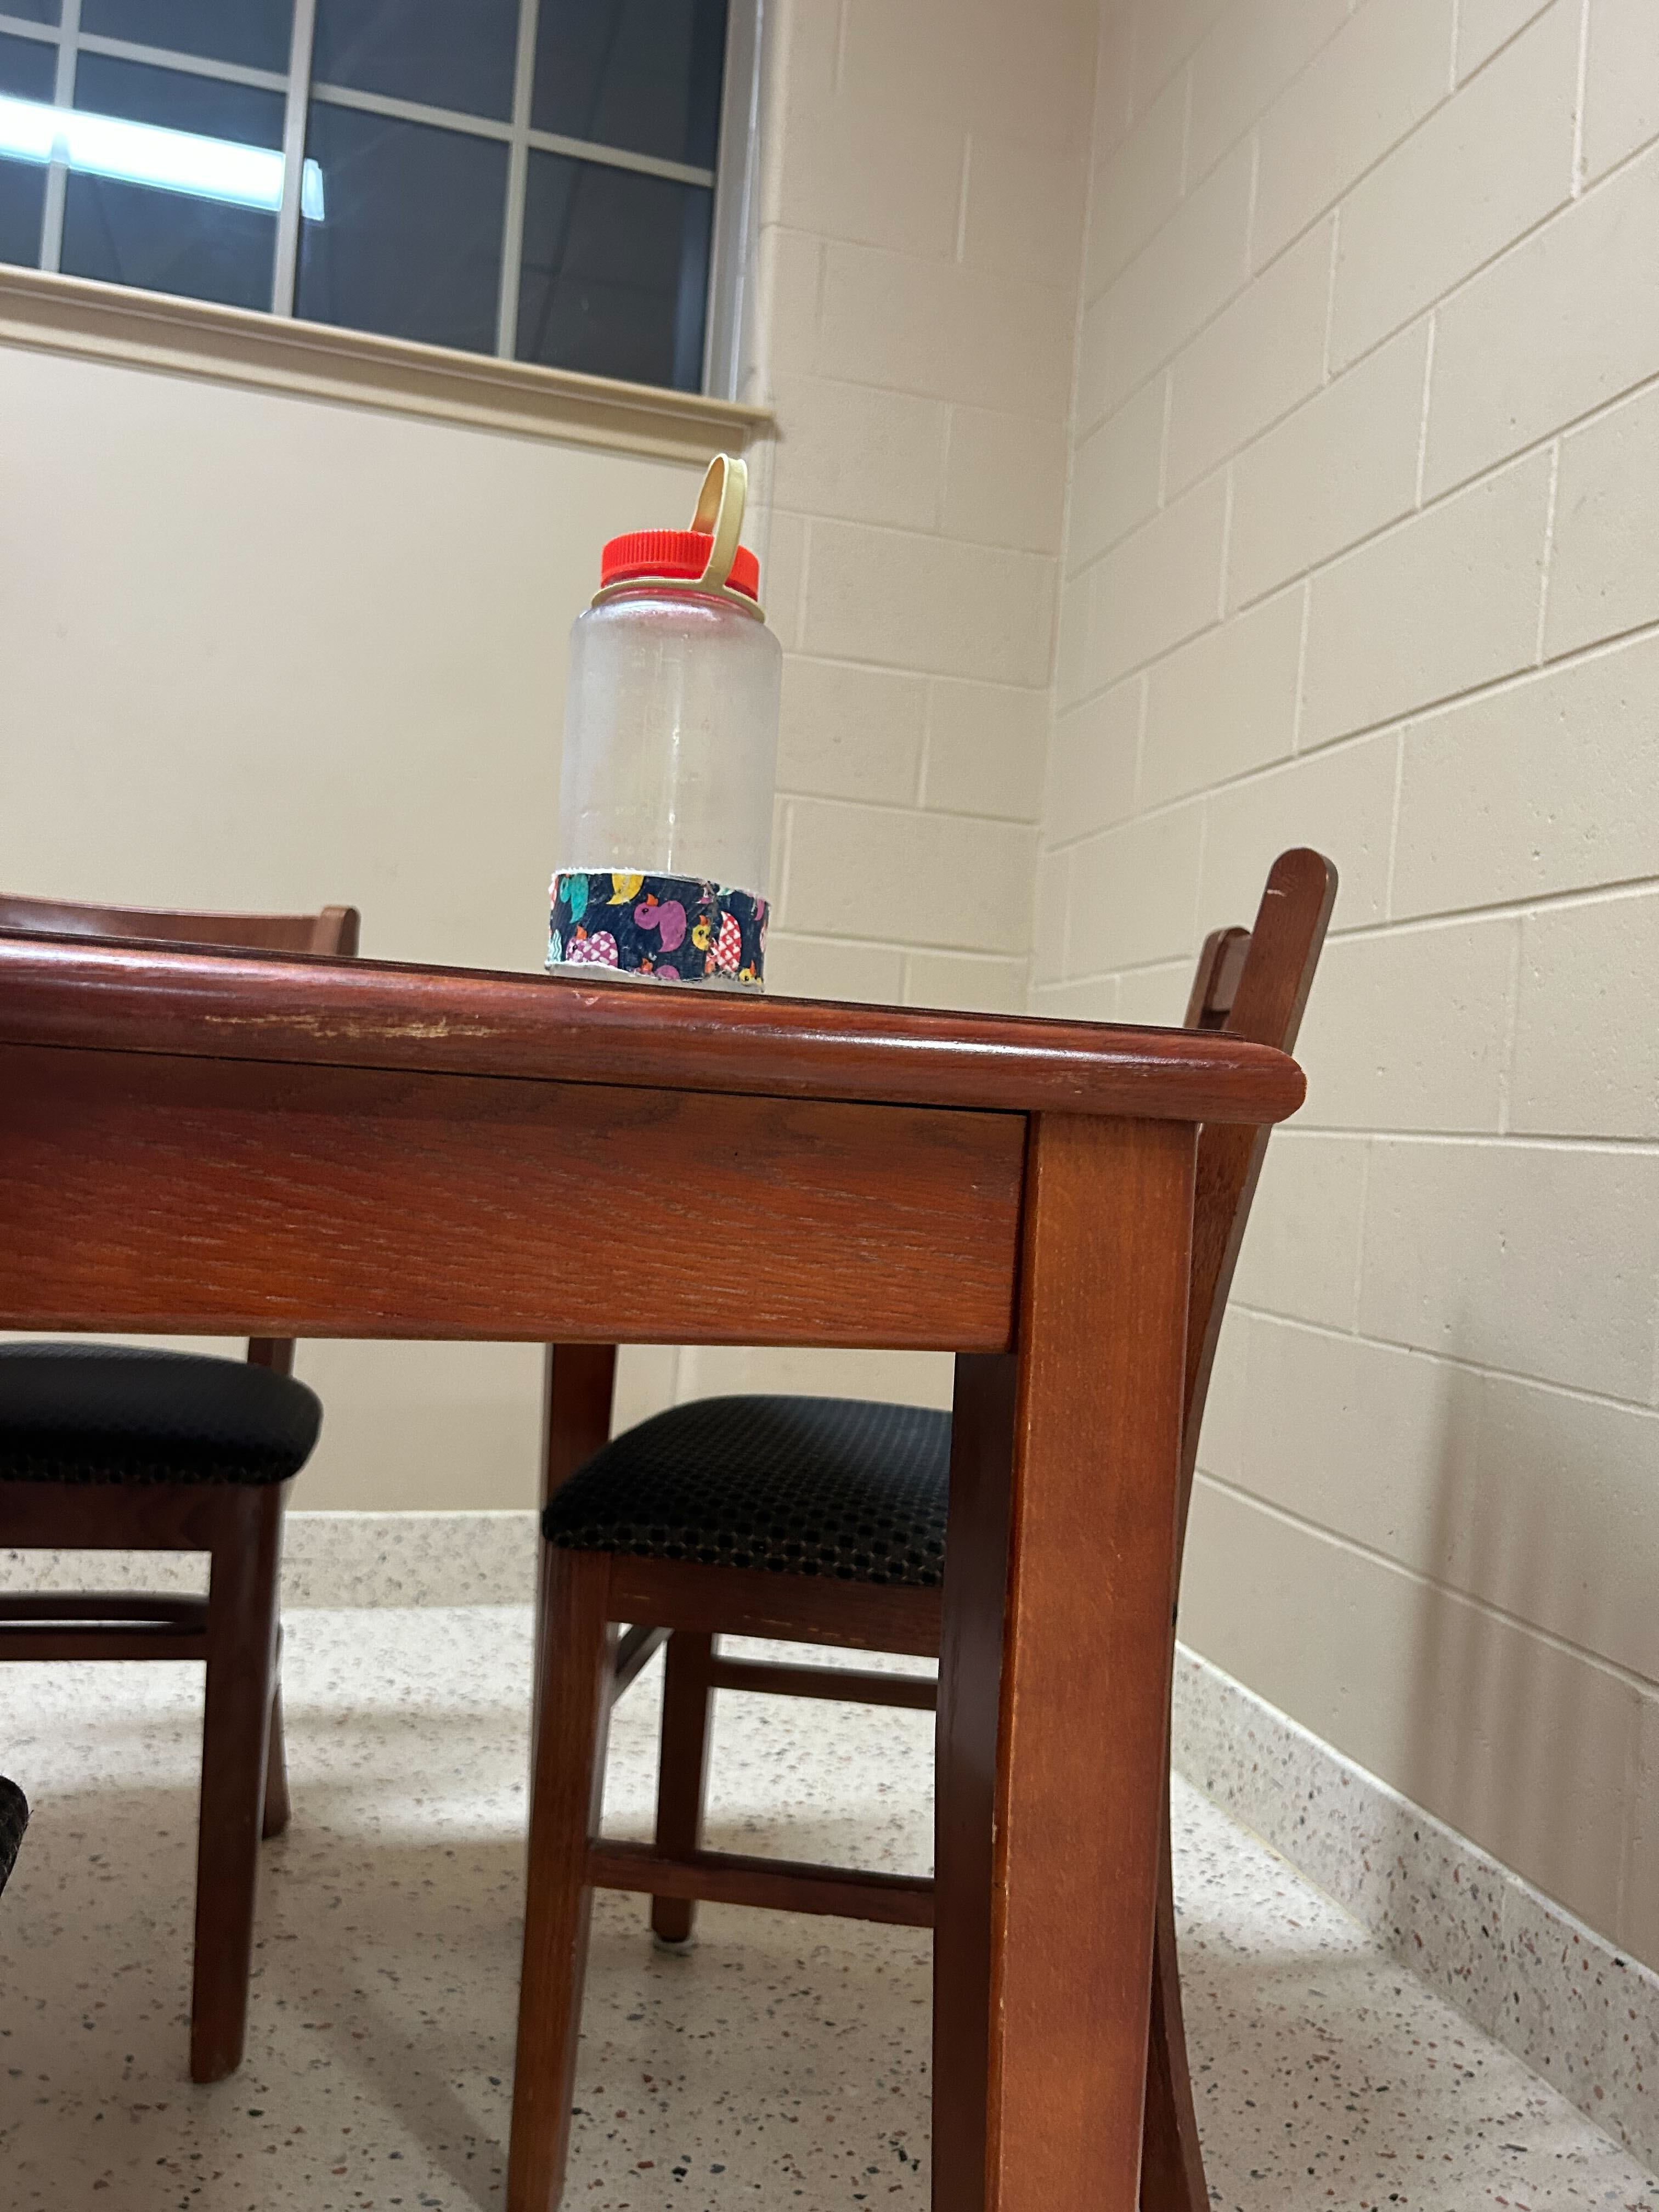bottle: (542, 441, 786, 1003)
